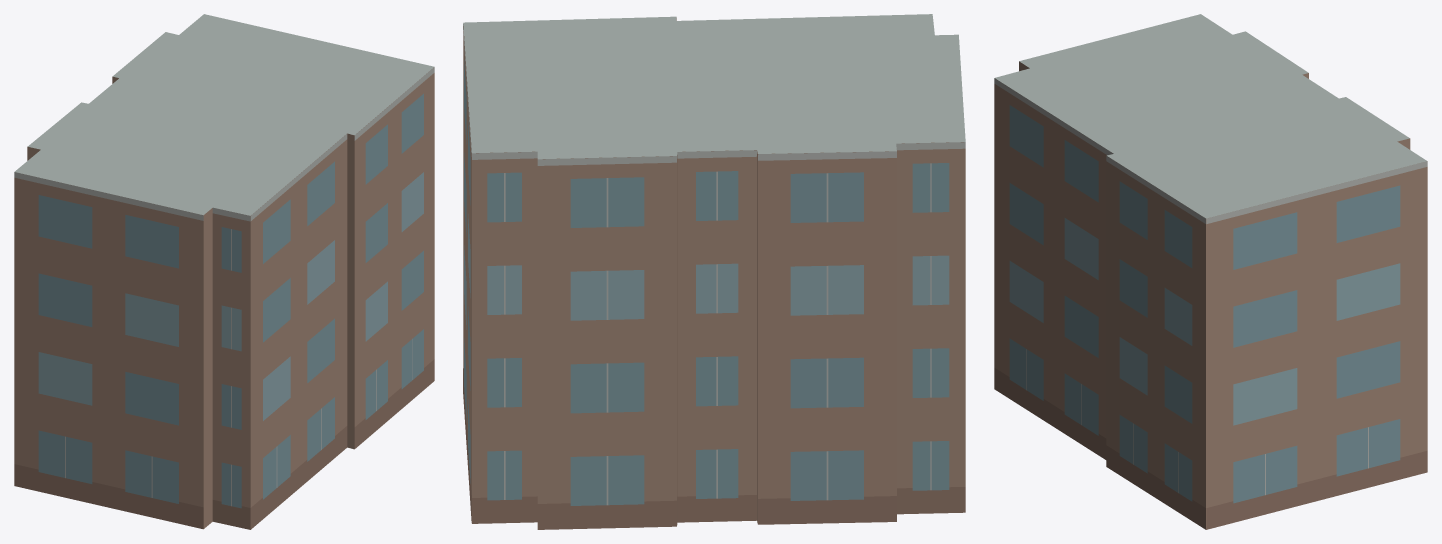
File: survey-upis-32659092.glb
3 views of the same model, side by side, from view 1: azimuth 30°, elevation 25°; view 2: azimuth 150°, elevation 25°; view 3: azimuth 270°, elevation 25° (orthographic). The views are drawn at different scales.
Parts seen in each view (by area): view 1: survey-upis-32659092.tmp; view 2: survey-upis-32659092.tmp; view 3: survey-upis-32659092.tmp.
Part boxes in pixels (left/top/right/bottom): survey-upis-32659092.tmp: left=14, top=14, right=434, bottom=529; survey-upis-32659092.tmp: left=463, top=14, right=965, bottom=529; survey-upis-32659092.tmp: left=994, top=14, right=1427, bottom=529.
Bounding box in the file's own units: 18.91 × 13.41 × 16.92.
